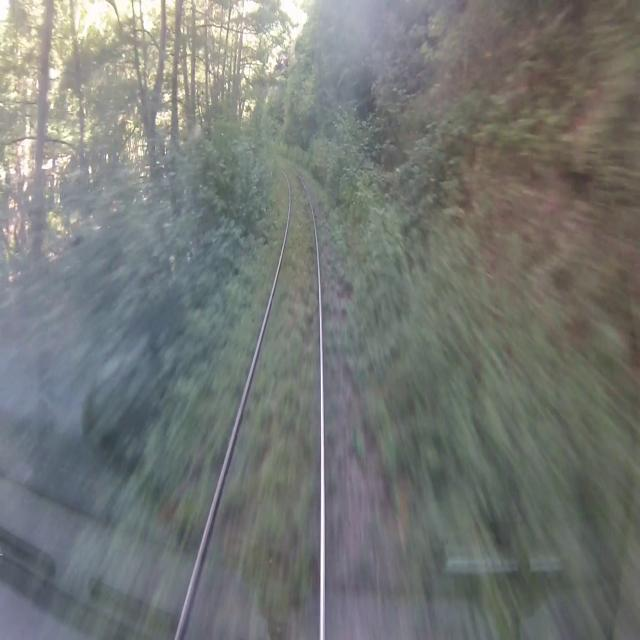Plant: (221, 172, 317, 639), (180, 184, 287, 553), (321, 281, 358, 546), (318, 213, 351, 371), (335, 555, 369, 600)
